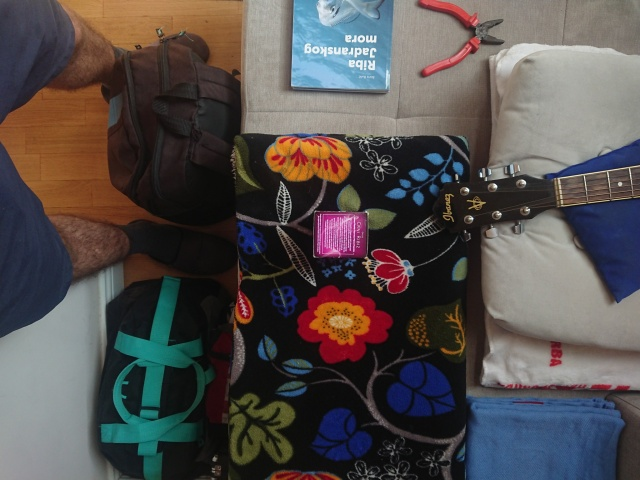Franck Black Currant Tea 60g: (310, 207, 372, 261)
